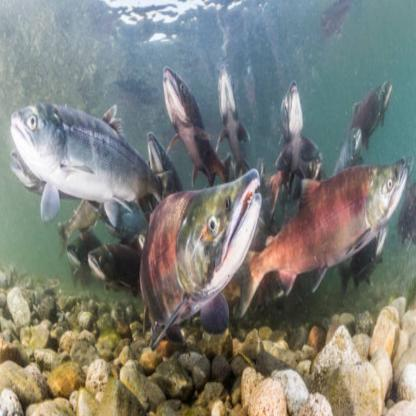sockeye: (250, 157, 408, 301), (141, 160, 261, 336), (13, 85, 154, 193), (164, 60, 221, 190)
